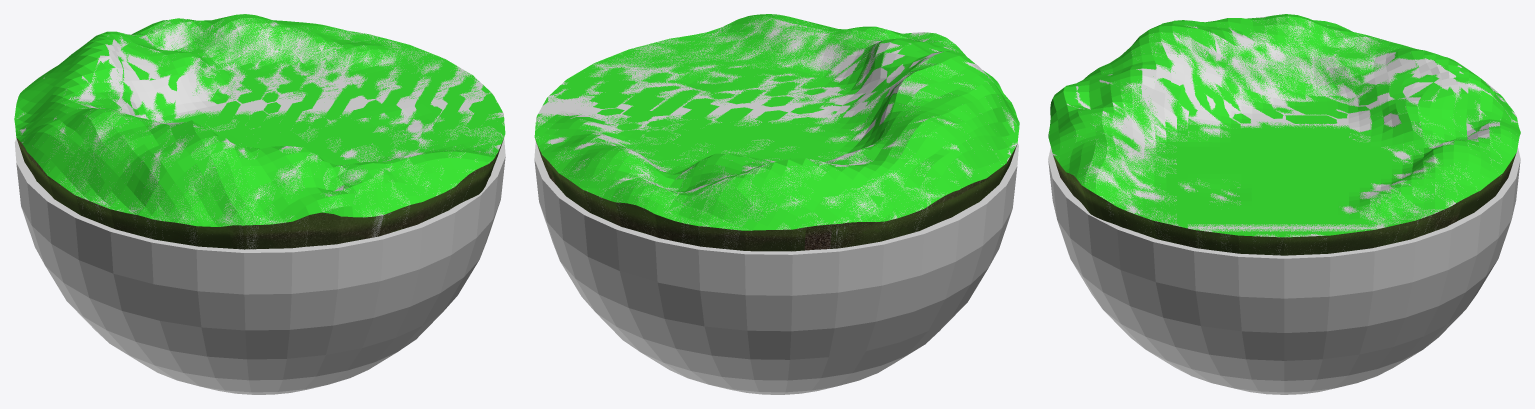
File: lobby2.glb
3 views of the same model, side by side, from view 1: azimuth 30°, elevation 25°; view 2: azimuth 150°, elevation 25°; view 3: azimuth 270°, elevation 25° (orthographic). The views are drawn at different scales.
Visible parts, largest first — view 1: top, Sphere, col.colonly, under; view 2: top, Sphere, col.colonly, under; view 3: top, Sphere, col.colonly, under.
Part boxes in pixels (x1,y1,x2,y2): top: (14, 14, 505, 226); Sphere: (14, 138, 505, 394); col.colonly: (17, 18, 504, 249); under: (16, 138, 503, 249); top: (534, 14, 1019, 230); Sphere: (534, 141, 1018, 394); col.colonly: (535, 15, 1018, 249); under: (535, 140, 1017, 251); top: (1048, 14, 1520, 237); Sphere: (1048, 147, 1520, 394); col.colonly: (1048, 16, 1517, 254); under: (1053, 153, 1516, 255).
Bounding box in the file's own units: 252 × 172 × 252.
Materials: 2 (1 with a texture image).
